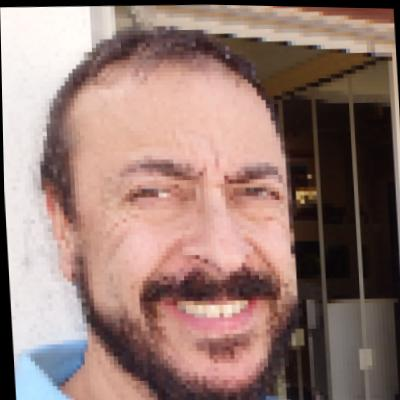happy: (62, 74, 311, 385)
